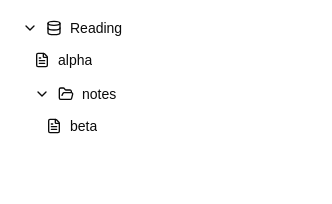
it: NotesTree › offers creation, rename and delete for vault roots
The width and height of the screenshot is (332, 204).
Right-click the button "Reading".
right_click(71, 28)  # box [12, 12, 130, 44]
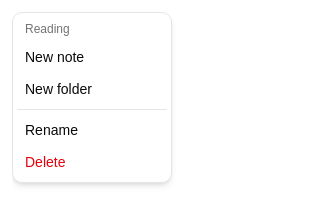
Check: the button "New note" is shown, box [17, 41, 167, 73]
Check: the button "New folder" is shown, box [17, 73, 167, 105]
Check: the button "Rename" is shown, box [17, 114, 167, 146]
